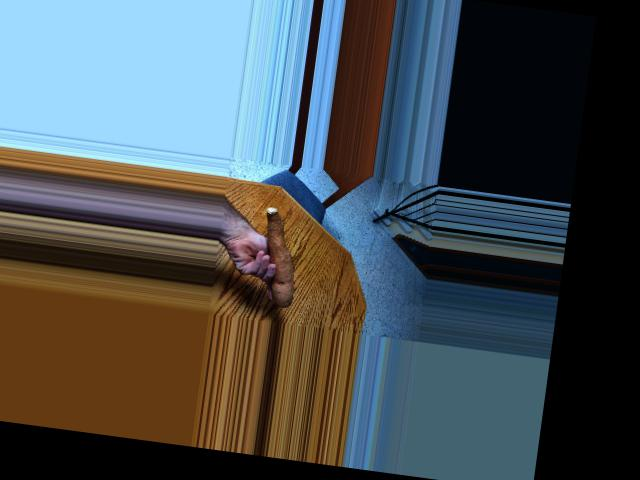sweet_potato: (250, 203, 308, 307)
